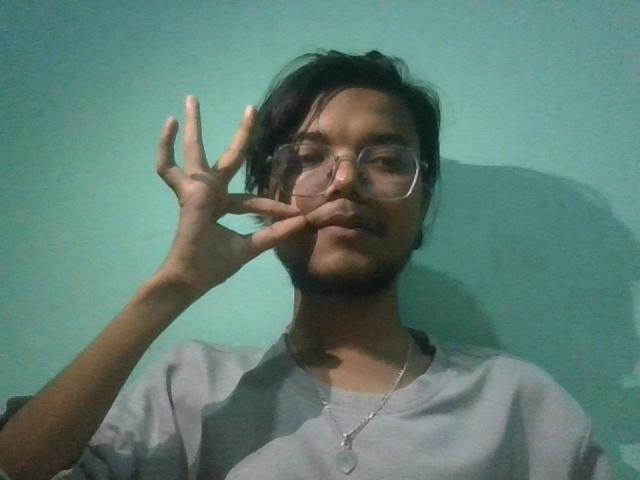Cat: (138, 87, 313, 322)
